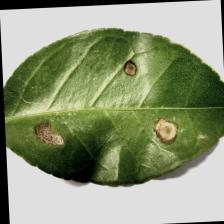canker: (19, 63, 185, 148)
